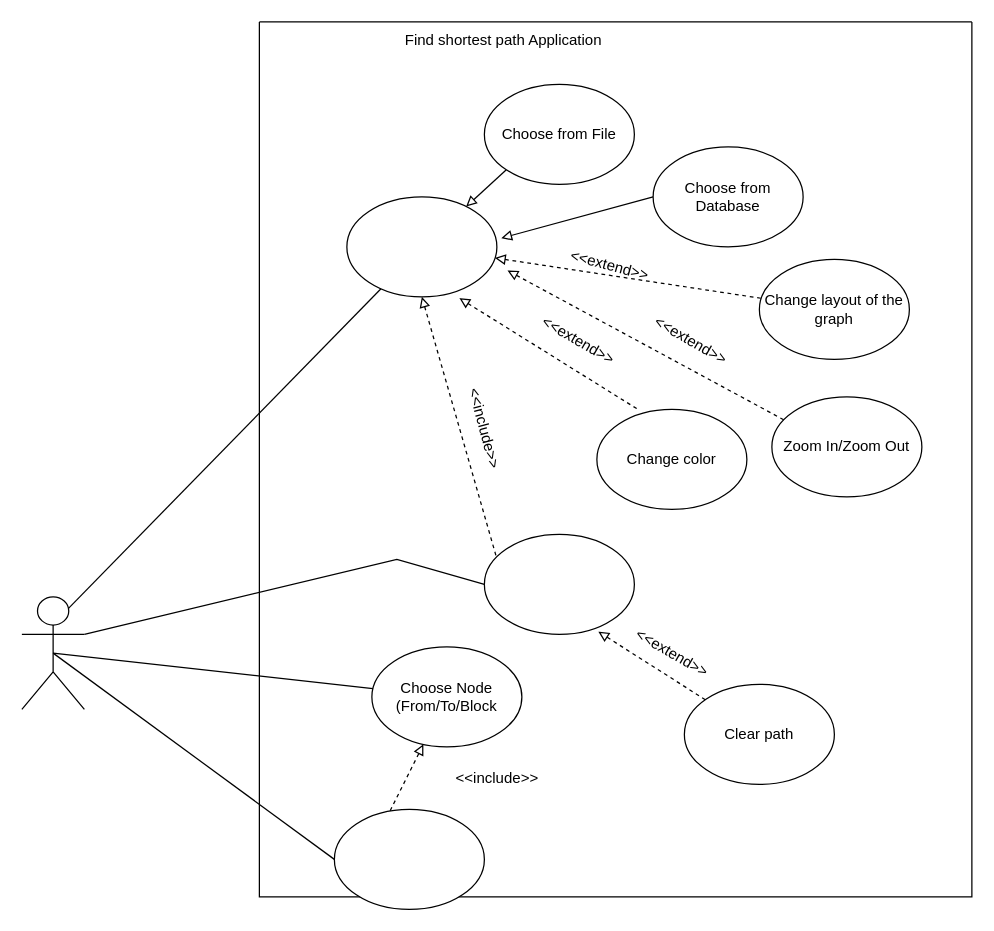
The diagram is 994 pixels wide and 931 high, and some of its shapes have lost their labels. The shapes that lost their labels are listed below. From the top down, each one's box as (x1, y1, x2, y2) in pixels, then its label:
(346, 196, 497, 297): Choose a graph
(483, 533, 634, 634): Draw path
(21, 596, 84, 709): User
(333, 808, 484, 909): Remove a node from Blocking node
